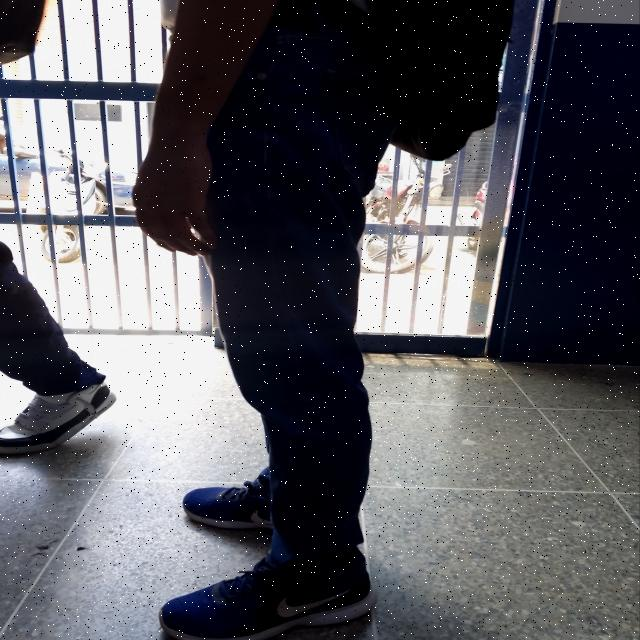pantalon_oscuro: (203, 17, 392, 570)
